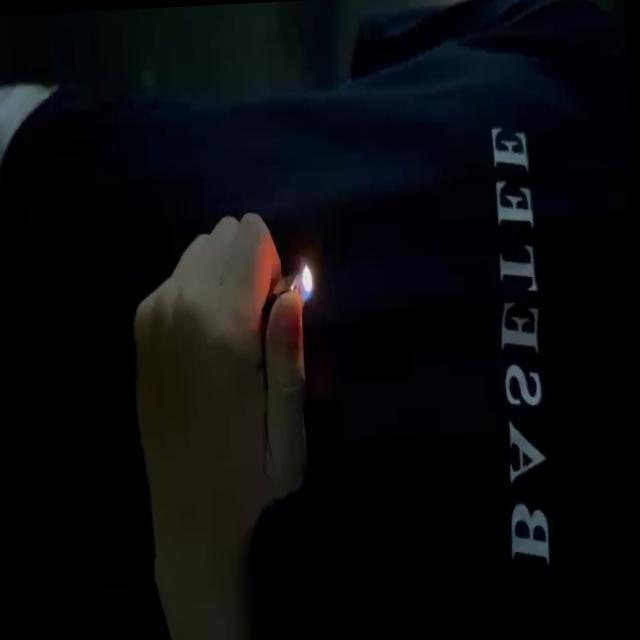Fire: (294, 261, 316, 302)
